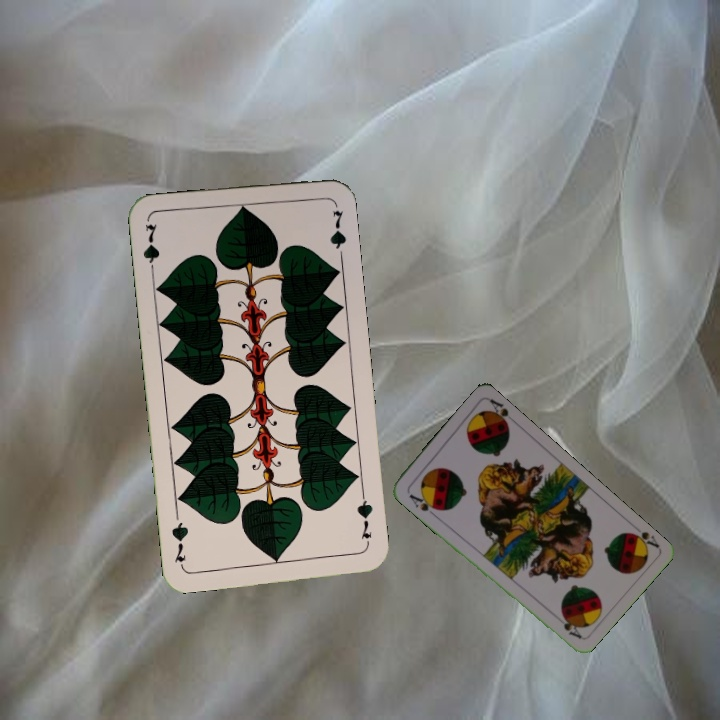G7: (139, 219, 163, 278), (353, 490, 375, 549)
SA: (622, 527, 662, 554), (405, 490, 442, 519)
